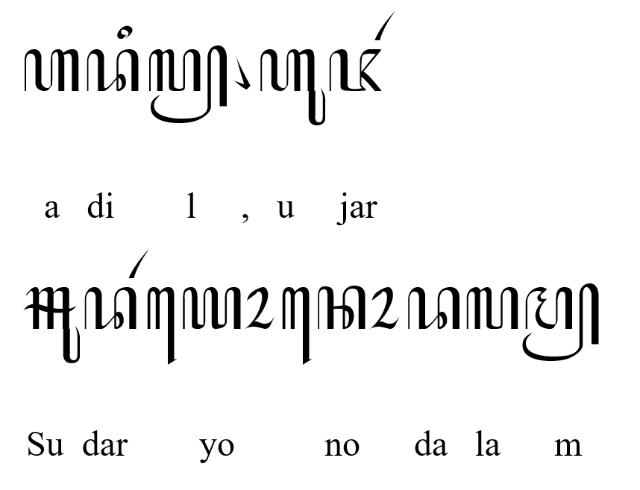-l: (148, 44, 228, 124)
-m: (522, 282, 600, 362)
Su: (23, 286, 81, 363)
_r1: (127, 248, 149, 280), (374, 11, 396, 41)
d: (86, 48, 140, 92), (84, 286, 138, 330), (408, 286, 460, 330)
e1: (282, 286, 312, 366), (147, 288, 177, 366)
h: (22, 48, 80, 92)
hu: (258, 48, 326, 125)
i: (117, 24, 133, 40)
j: (328, 48, 382, 92)
kom: (233, 54, 250, 90)
l: (466, 286, 518, 330)
n: (318, 285, 367, 331)
o: (368, 286, 400, 330), (244, 286, 276, 328)
y: (182, 286, 242, 330)
